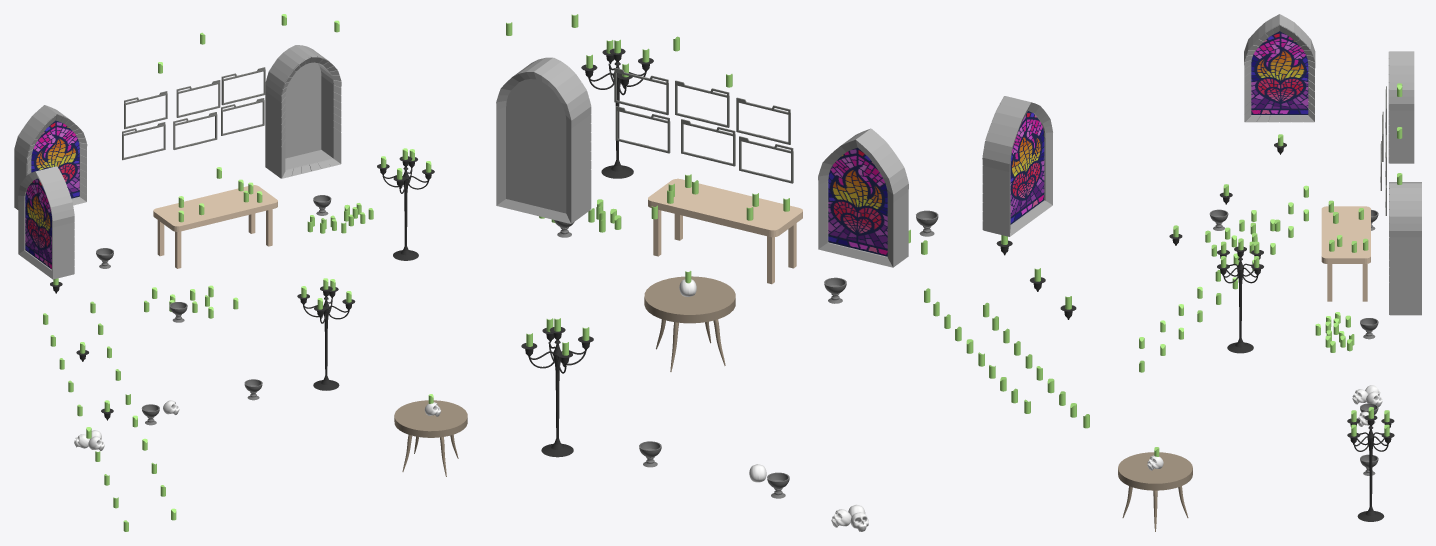
The model's file is items.glb.
3 views of the same model, side by side, from view 1: azimuth 30°, elevation 25°; view 2: azimuth 150°, elevation 25°; view 3: azimuth 270°, elevation 25° (orthographic). The views are drawn at different scales.
Visible parts, largest first — view 1: WindowRock.003, WindowRock.001, DesktopBase, WindowRock.002, WindowCrystal01.002, TableBase, WindowCrystal01.003, CandelabraBase.001, CandelabraBase; view 2: WindowRock.003, WindowRock.001, WindowCrystal01.004, WindowRock.002, DesktopBase, TableBase, WindowCrystal01.003, CandelabraBase; view 3: WindowRock.003, WindowCrystal01.001, WindowRock.002, WindowRock.001, DesktopBase, TableBase, CandelabraBase, CandelabraBase.001.
Part boxes in pixels (left/top/right/bottom): WindowRock.003: left=265, top=45, right=341, bottom=178; WindowRock.001: left=18, top=166, right=74, bottom=279; DesktopBase: left=153, top=185, right=277, bottom=231; WindowRock.002: left=14, top=105, right=87, bottom=209; WindowCrystal01.002: left=31, top=120, right=79, bottom=198; TableBase: left=394, top=400, right=467, bottom=437; WindowCrystal01.003: left=25, top=178, right=51, bottom=269; CandelabraBase.001: left=393, top=167, right=418, bottom=260; CandelabraBase: left=313, top=297, right=339, bottom=390; WindowRock.003: left=496, top=57, right=591, bottom=223; WindowRock.001: left=982, top=96, right=1052, bottom=236; WindowCrystal01.004: left=828, top=147, right=887, bottom=256; WindowRock.002: left=818, top=128, right=908, bottom=267; DesktopBase: left=648, top=178, right=802, bottom=237; TableBase: left=644, top=276, right=735, bottom=323; WindowCrystal01.003: left=1010, top=111, right=1044, bottom=224; CandelabraBase: left=541, top=340, right=573, bottom=457; WindowRock.003: left=1389, top=182, right=1421, bottom=315; WindowCrystal01.001: left=1251, top=31, right=1308, bottom=114; WindowRock.002: left=1388, top=51, right=1414, bottom=163; WindowRock.001: left=1244, top=14, right=1315, bottom=122; DesktopBase: left=1321, top=206, right=1370, bottom=263; TableBase: left=1118, top=452, right=1192, bottom=490; CandelabraBase: left=1357, top=426, right=1384, bottom=521; CandelabraBase.001: left=1227, top=257, right=1253, bottom=353.
Bounding box in the file's own units: 17.72 × 16.94 × 12.32.
Materials: 9 (1 with a texture image).
